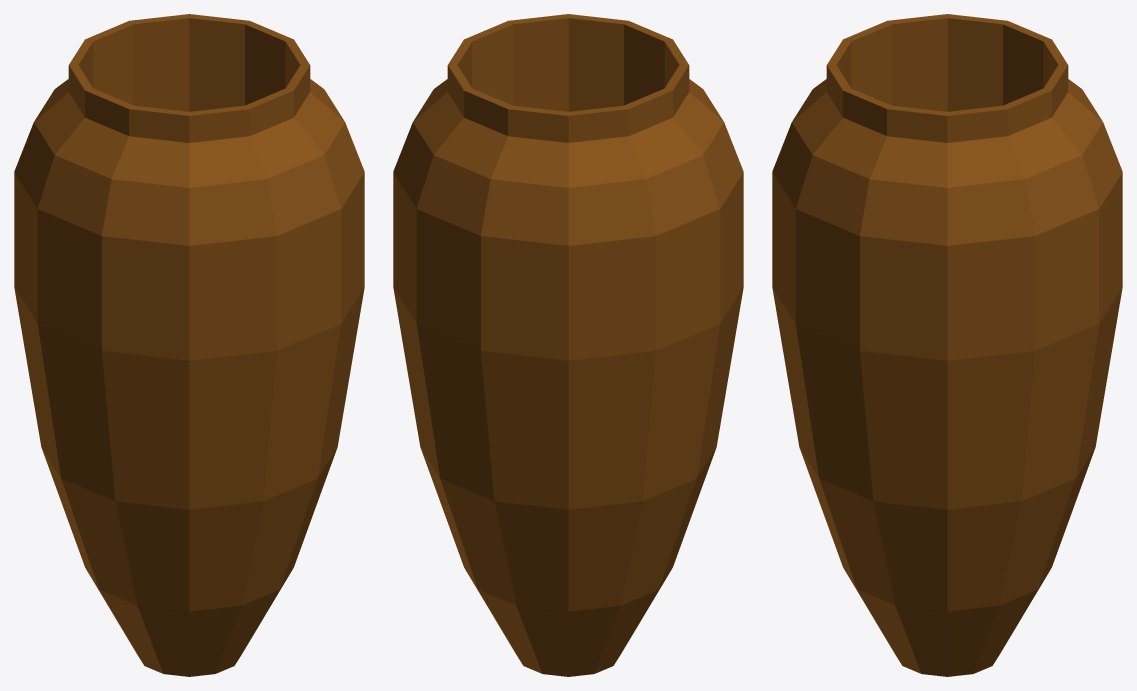
The model's file is SM_pottery_018.fbx.
3 renders of one model, left to right at view 1: azimuth 30°, elevation 25°; view 2: azimuth 150°, elevation 25°; view 3: azimuth 270°, elevation 25°, orthographic.
Visible parts, largest first — view 1: Cylinder015; view 2: Cylinder015; view 3: Cylinder015.
Part boxes in pixels (x1=…): Cylinder015: x1=14, y1=14, x2=364, y2=676; Cylinder015: x1=393, y1=14, x2=743, y2=676; Cylinder015: x1=772, y1=14, x2=1122, y2=676.
Size of the model in its own units: 17.44 by 17.44 by 32.39.
